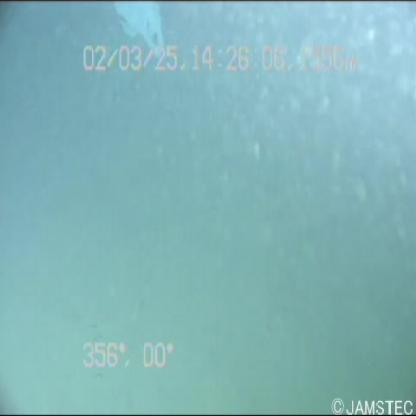Rác: (98, 1, 179, 59)
